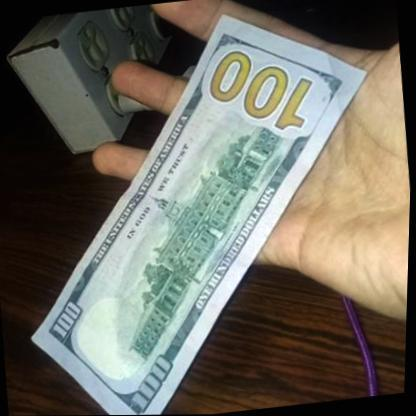one_hundred-back: (1, 0, 408, 416)
